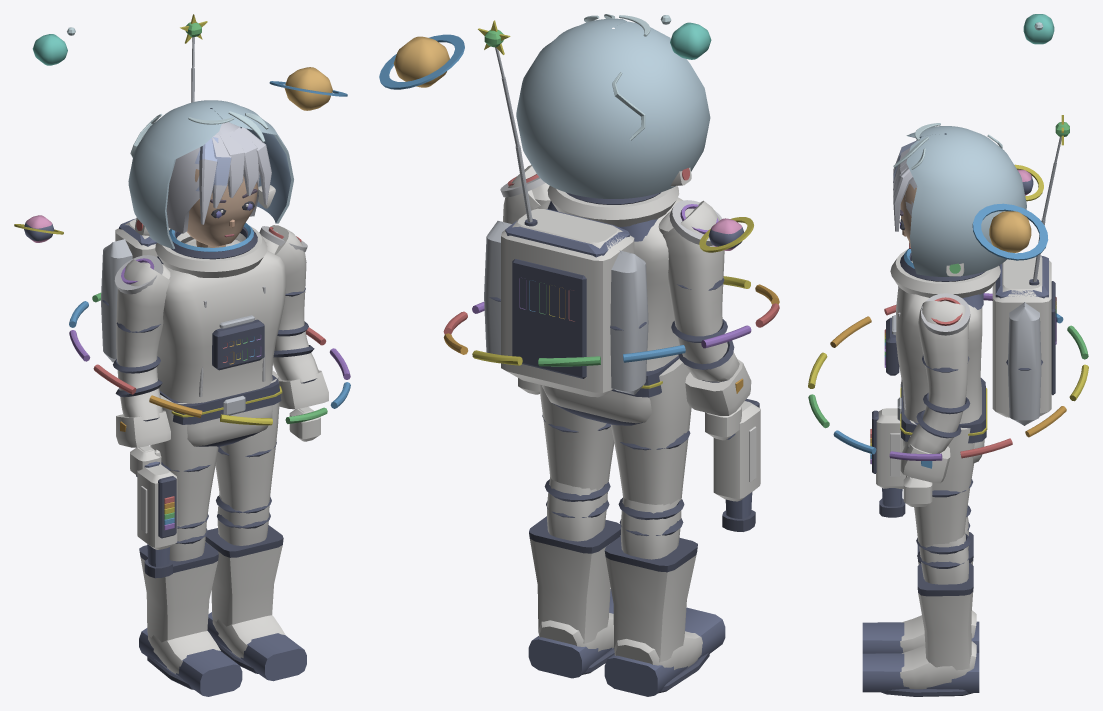
Rendered from jo_astronaute.glb.
3 views of the same model, side by side, from view 1: azimuth 30°, elevation 25°; view 2: azimuth 150°, elevation 25°; view 3: azimuth 270°, elevation 25° (orthographic). The views are drawn at different scales.
Visible parts, largest first — view 1: torso, coiffe, jambe_l, jambe_r, arm_r, hair, arm_l, leg_l, leg_r, gun, dos, orbite_glow (+9 smaller); view 2: coiffe, dos, jambe_r, arm_r, jambe_l, leg_r, torso, leg_l, gun, orbite_glow, shin_r, shin_l (+7 smaller); view 3: coiffe, dos, jambe_l, arm_l, torso, leg_l, orbite_glow, gun, jambe_r, shin_l, dos_orbite1_f1_glow, dos_orbite1_f1 (+6 smaller).
Part boxes in pixels (x1,y1,x2,y2): torso: (157, 239, 286, 447); coiffe: (128, 100, 293, 277); jambe_l: (205, 525, 306, 681); jambe_r: (139, 542, 242, 696); arm_r: (113, 259, 170, 475); hair: (166, 122, 271, 233); arm_l: (261, 225, 328, 441); leg_l: (215, 370, 279, 510); leg_r: (150, 395, 218, 525); gun: (136, 461, 177, 578); dos: (101, 218, 157, 362); orbite_glow: (69, 292, 350, 425); coiffe: (516, 18, 710, 226); dos: (484, 208, 648, 397); jambe_r: (604, 536, 725, 696); arm_r: (658, 200, 751, 440); jambe_l: (528, 516, 620, 678); leg_r: (610, 358, 691, 505); torso: (535, 197, 683, 425); leg_l: (539, 384, 614, 490); gun: (713, 398, 760, 531); orbite_glow: (443, 276, 779, 366); shin_r: (618, 496, 684, 559); shin_l: (544, 477, 610, 541); coiffe: (890, 126, 1026, 297); dos: (992, 255, 1055, 425); jambe_l: (862, 563, 979, 696); arm_l: (900, 300, 970, 506); torso: (886, 286, 986, 463); leg_l: (910, 420, 974, 546); orbite_glow: (808, 293, 1088, 460); gun: (872, 408, 905, 517); jambe_r: (862, 532, 979, 653); shin_l: (916, 531, 971, 584); dos_orbite1_f1_glow: (972, 203, 1048, 260); dos_orbite1_f1: (989, 211, 1031, 252).
Size of the model in its own units: 0.7574 by 1.4 by 0.5899.
